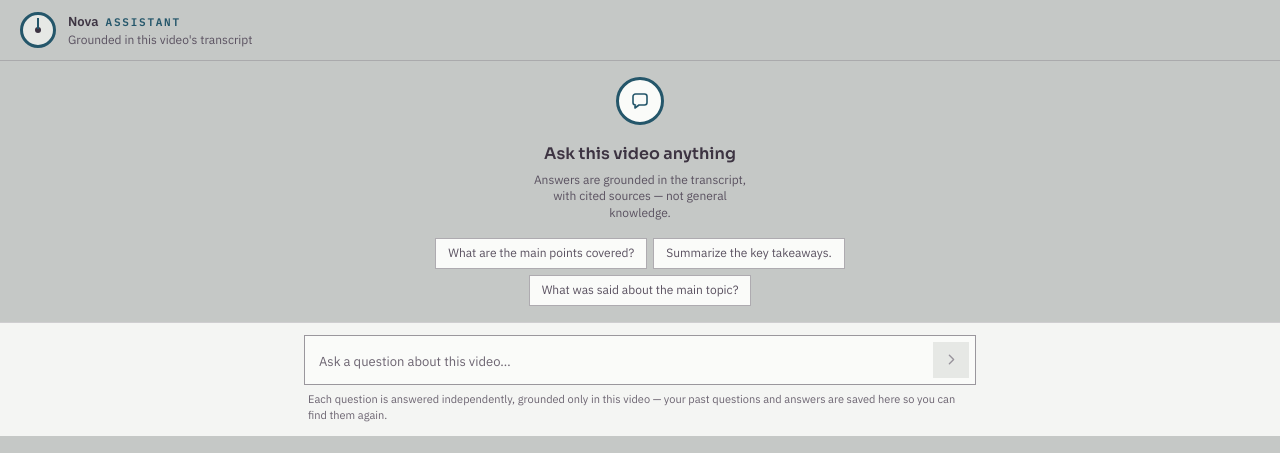
Test: ChatPanel › lets the user type a message and submit it by pressing Enter
Type "What is this video about?" into the text box with placeholder "Ask a question about this video…" at x=618, y=362, box [311, 346, 925, 378]
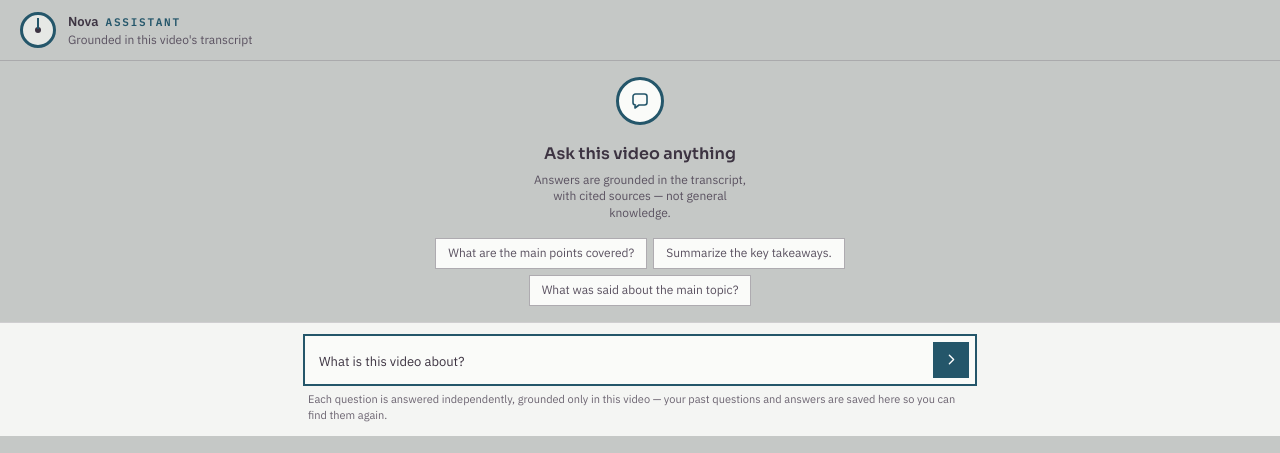
Press Enter
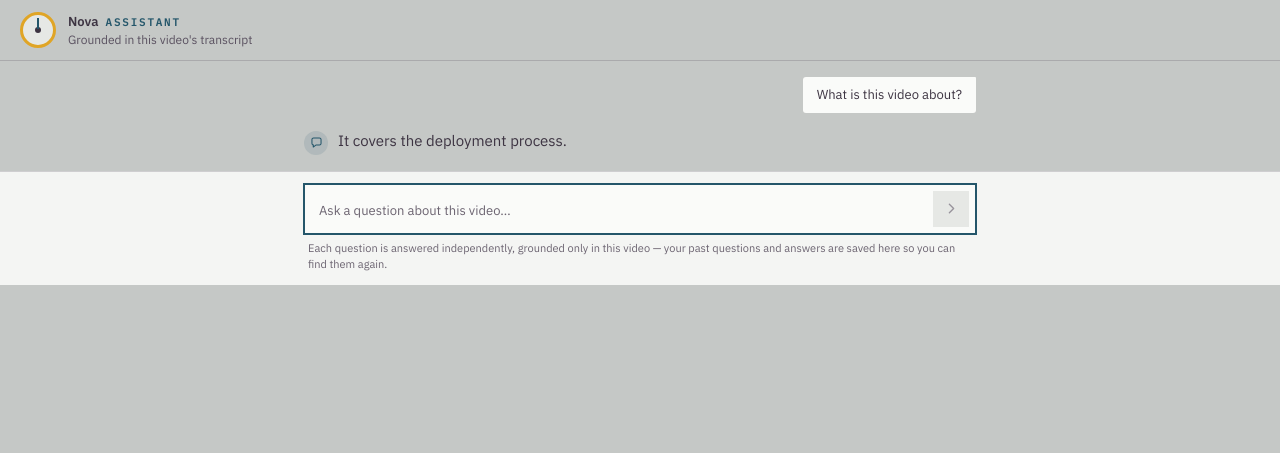
Expected: the text box with placeholder "Ask a question about this video…" is enabled, [311, 195, 925, 227]
Now the text "It covers the deployment process." is shown, box [338, 131, 567, 150]
Now the text box with placeholder "Ask a question about this video…" is empty, box [311, 195, 925, 227]
